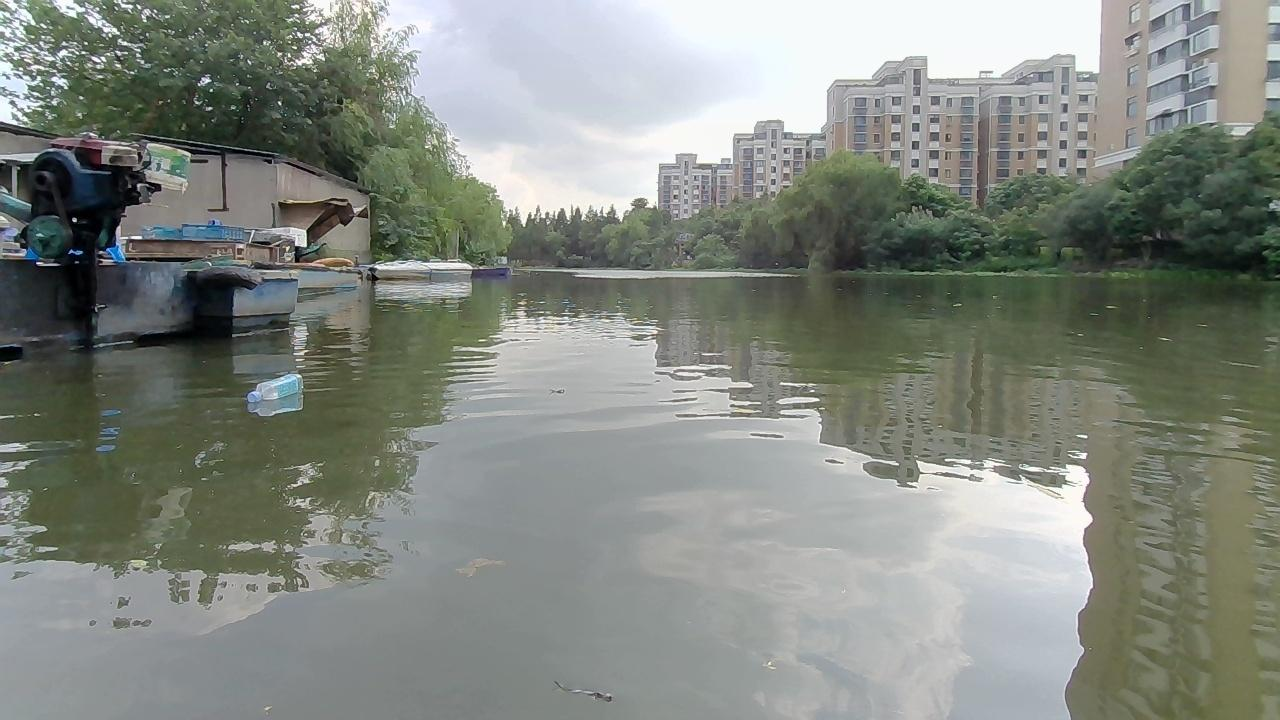bottle: (248, 367, 305, 401)
